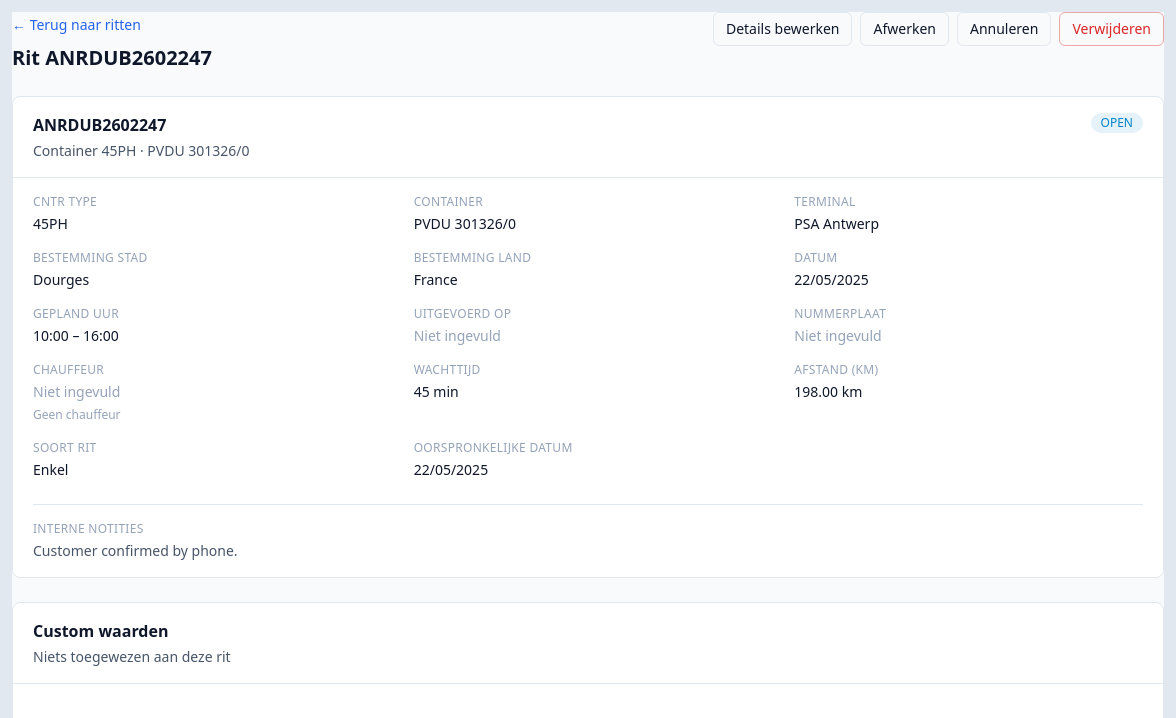
Test case: Trip management › changing status › shows the backend's message when a transition is rejected
Click the button "Annuleren": (1004, 29) [957,12,1051,46]
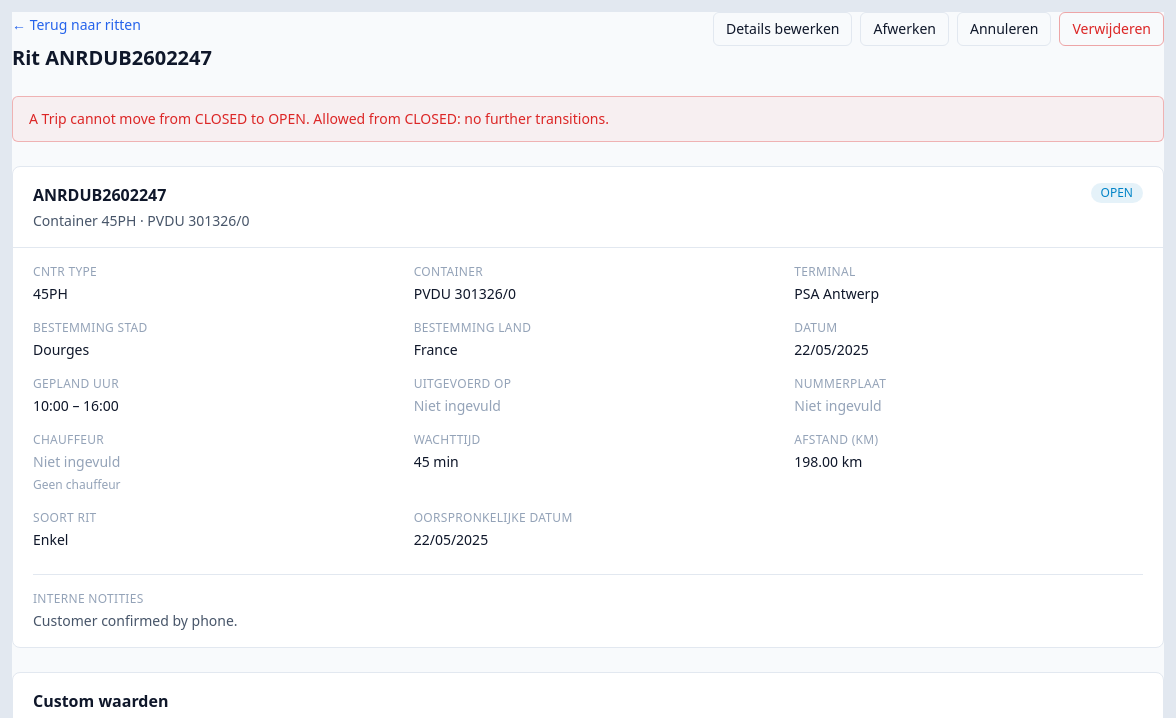
Result: the message shows "cannot move from CLOSED to OPEN" at [29,109,609,128]
